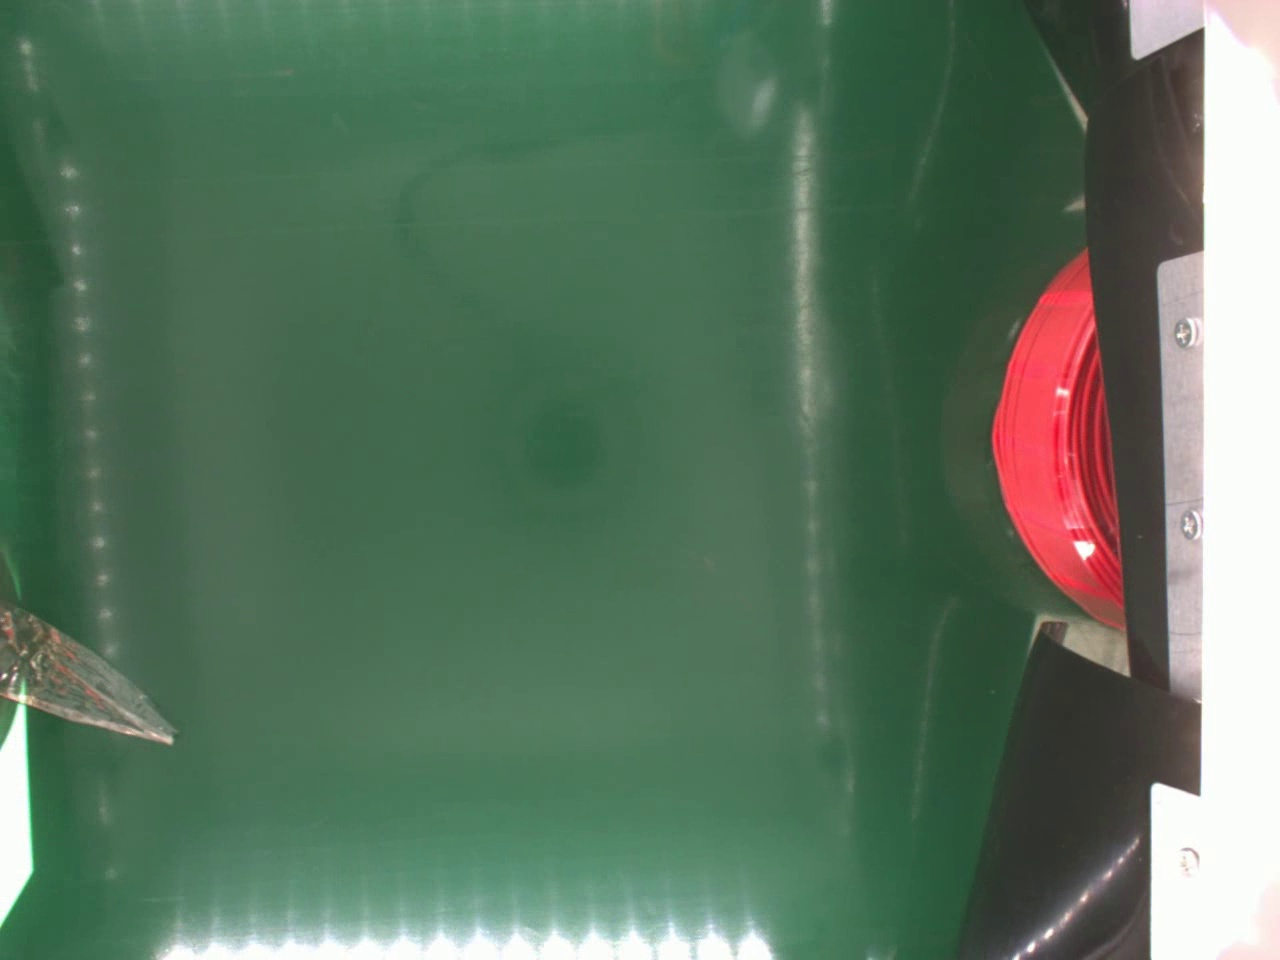red: (987, 244, 1120, 620)
